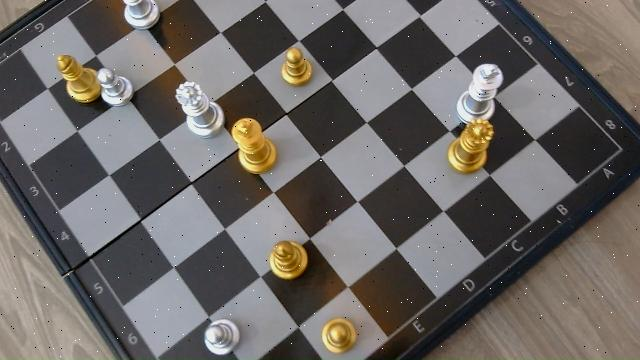black_bishop: (56, 54, 99, 104), (269, 240, 309, 280)
black_king: (232, 118, 276, 174)
black_pawn: (321, 318, 359, 355), (280, 48, 312, 87)
black_queen: (450, 120, 495, 173)
white_king: (459, 63, 502, 118)
white_pawn: (203, 318, 242, 357), (98, 68, 133, 108)
white_queen: (176, 79, 219, 138)
